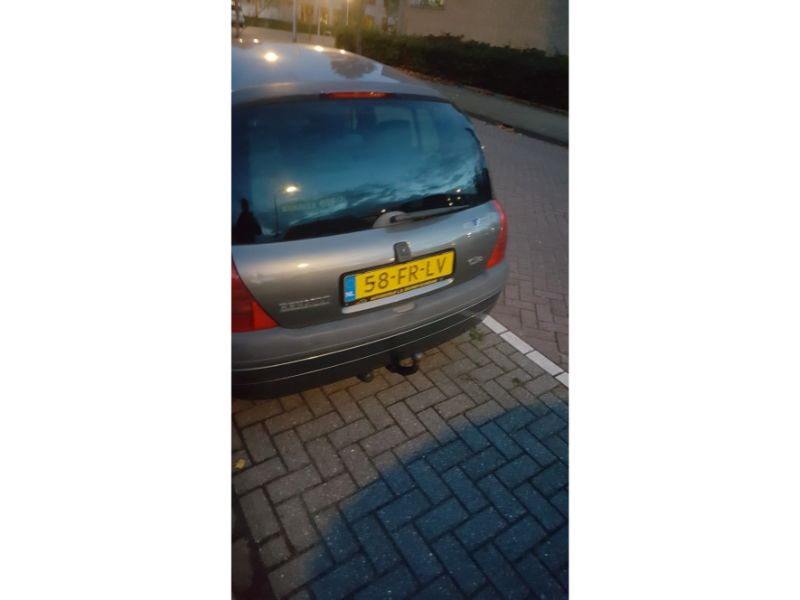kenteken: (342, 249, 456, 306)
